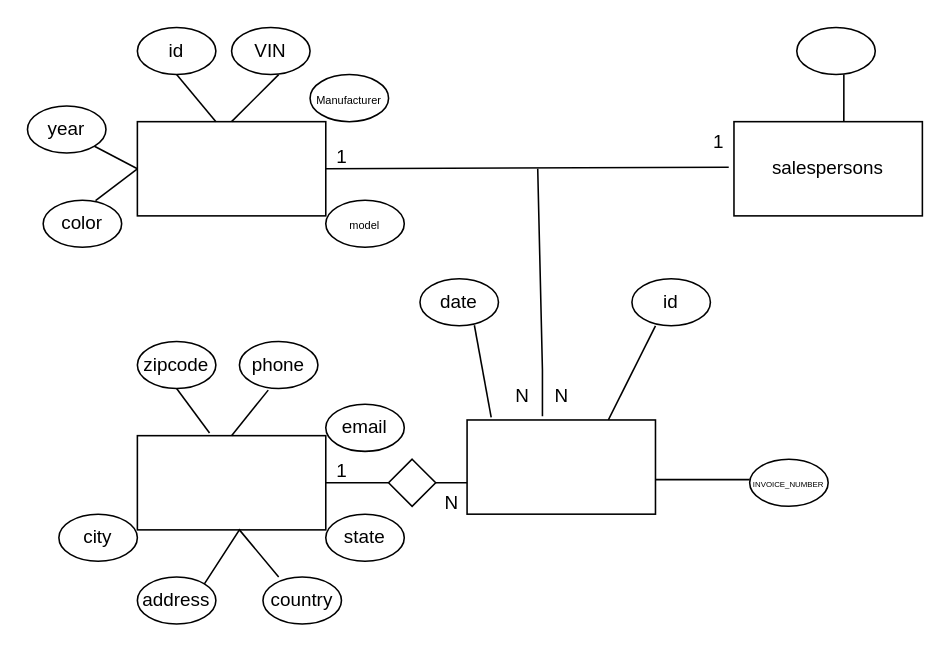
Image size: 950x652. Some labels were removed from this diagram. The shapes that lost their labels are listed below. From the top down, each one's centre as x and y in pixels, then its label:
At point (835, 50): "staff_id".
At point (231, 168): "cars".
At point (231, 482): "customer".
At point (560, 466): "invoices".
